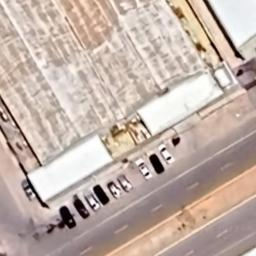sedan: (57, 203, 78, 231), (72, 195, 92, 221), (134, 156, 154, 180), (92, 184, 112, 206), (156, 142, 176, 164), (82, 190, 102, 211), (105, 179, 123, 201), (148, 153, 166, 175), (116, 173, 134, 193)
